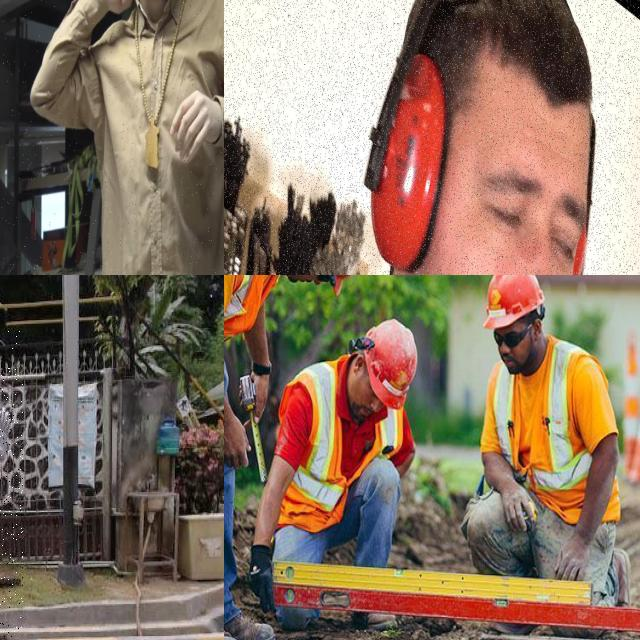Ear-protection: (358, 22, 453, 275)
face_nomask: (490, 321, 537, 378), (344, 371, 393, 424), (288, 275, 333, 298)
glasses: (491, 326, 526, 352)
hand_glove: (247, 534, 284, 626)
hand_noglove: (493, 482, 543, 537), (551, 532, 596, 587), (224, 403, 255, 477), (246, 364, 275, 422)
head_helmet: (363, 320, 419, 404), (478, 275, 546, 328)
head_nohelmet: (403, 0, 608, 155)
person: (351, 0, 603, 275), (448, 275, 640, 606), (286, 330, 422, 626), (224, 275, 297, 640)
shoes: (224, 602, 274, 640)
vest: (470, 352, 630, 524), (280, 407, 402, 531)
